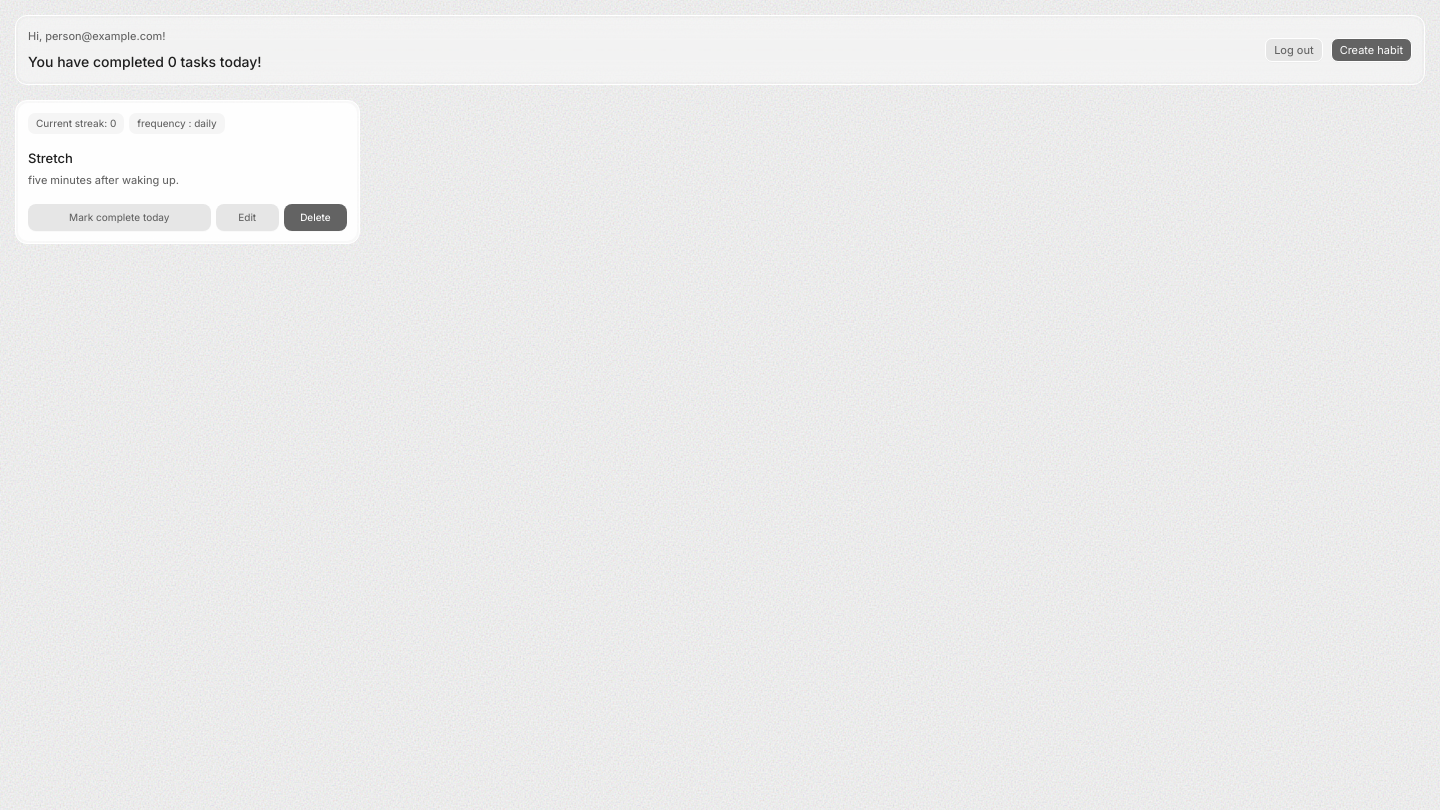
habit form › deletes a habit only after explicit confirmation
Expected: the element with test id "dashboard-page" is shown, [15,100,360,244]
Click the button with test id "habit-delete-stretch" at (315, 217), box [284,204,347,230]
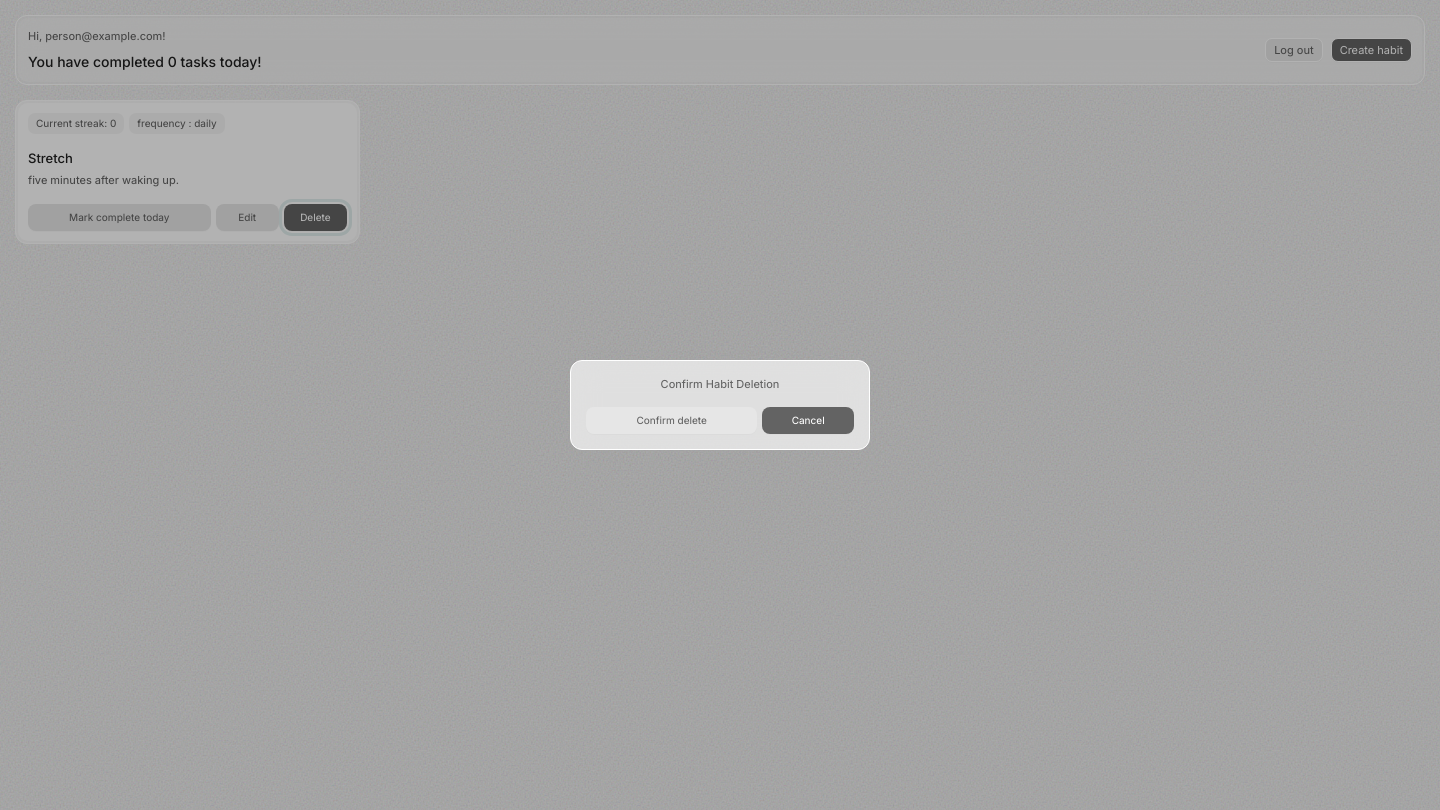
Expected: the element with test id "habit-card-stretch" is shown, [15,100,360,244]
Click the button with test id "confirm-delete-button" at (672, 421), box [586,407,757,434]
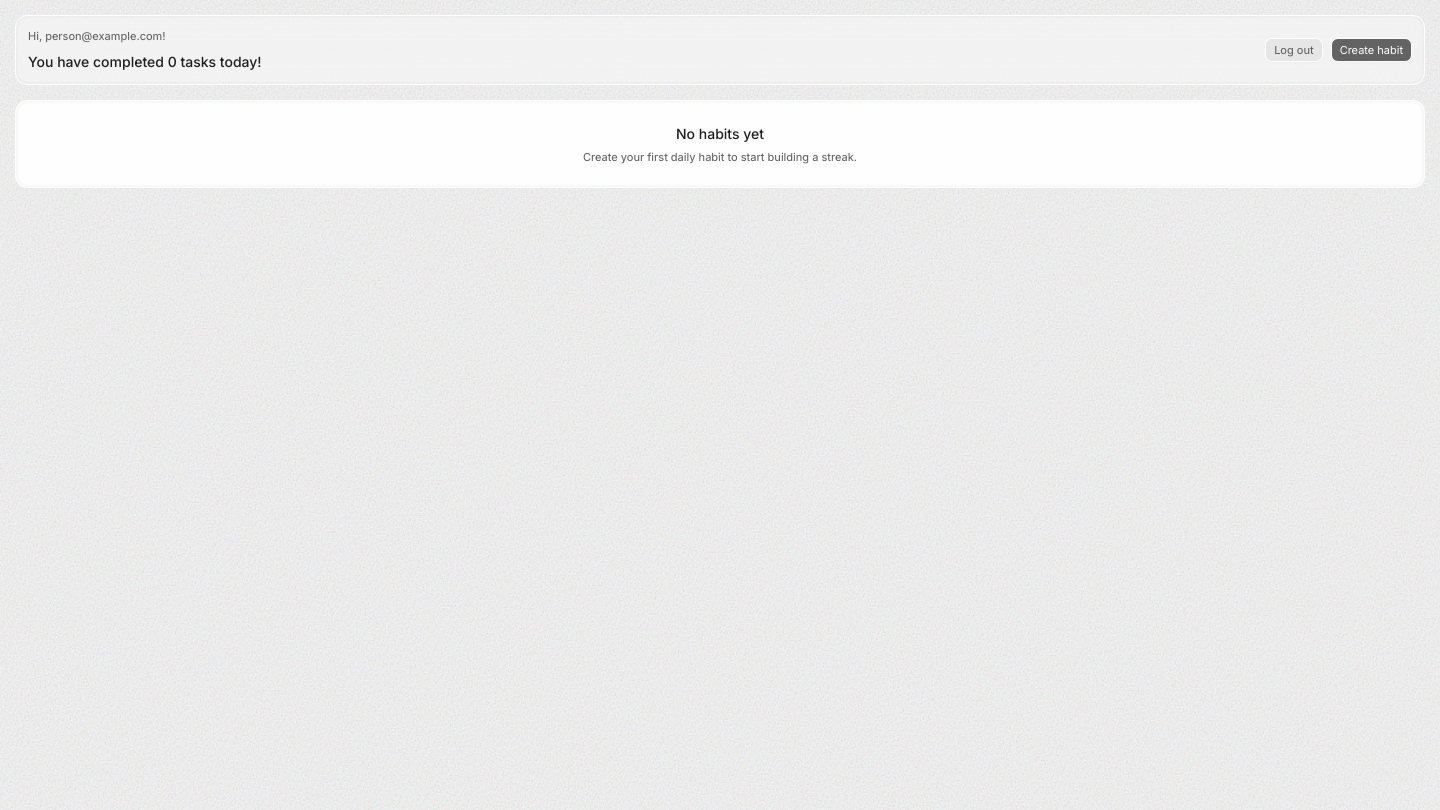
Now the element with test id "empty-state" is shown, box [15,100,1425,188]
